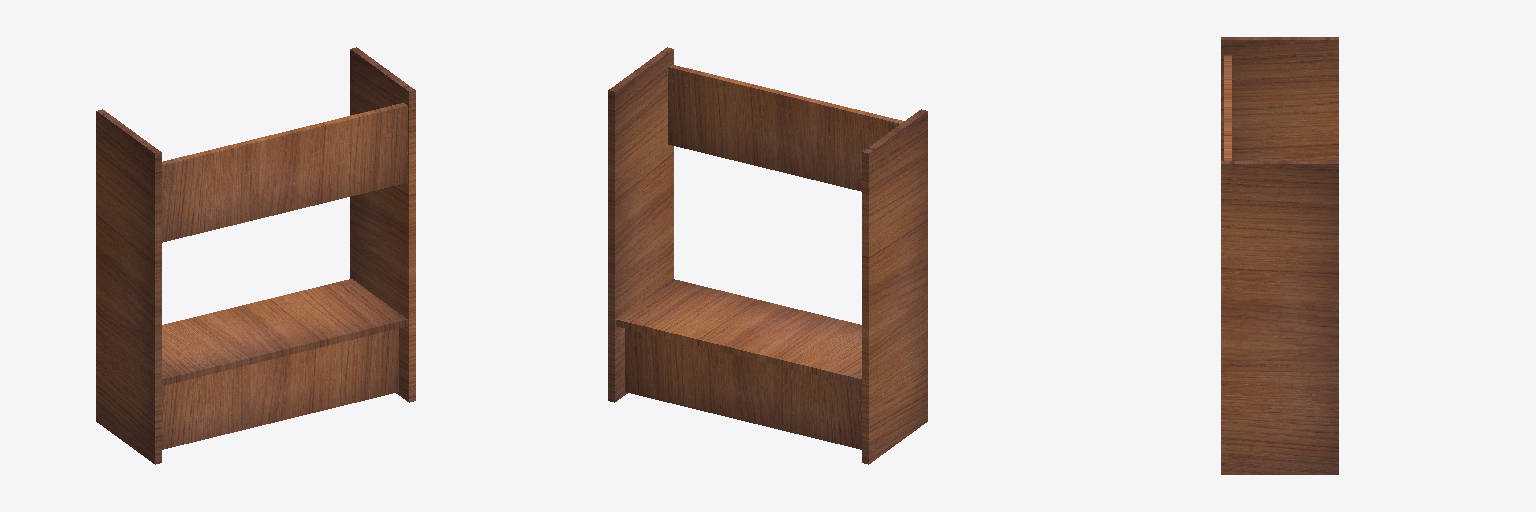
The picture shows the model from 3 angles: view 1: azimuth 30°, elevation 25°; view 2: azimuth 150°, elevation 25°; view 3: azimuth 270°, elevation 25°; orthographic projection.
Parts seen in each view (by area): view 1: Mesh; view 2: Mesh; view 3: Mesh.
Part boxes in pixels (x1,y1,x2,y2): Mesh: (96, 47, 415, 464); Mesh: (608, 47, 927, 464); Mesh: (1221, 37, 1338, 474).
Bounding box in the file's own units: 5.13 × 5.85 × 2.
5 materials, 1 textured.